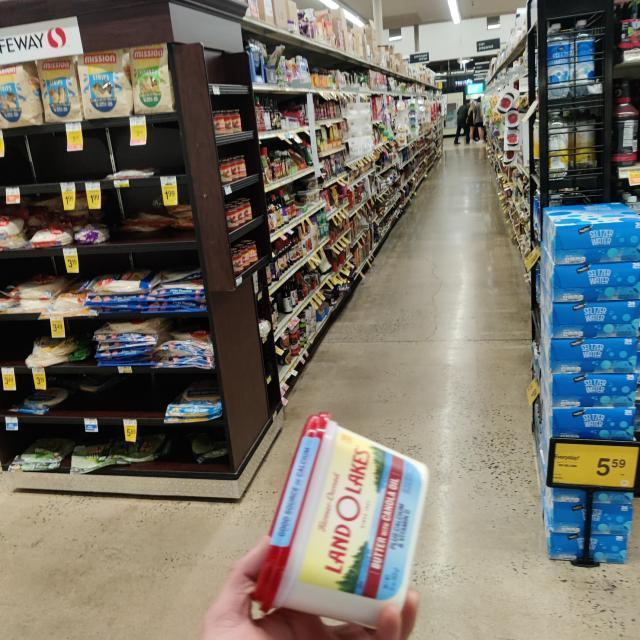Butter: (255, 401, 429, 636)
